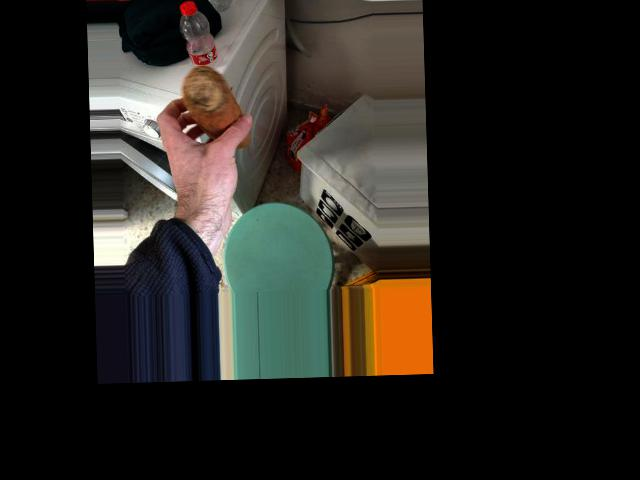sweet_potato: (179, 70, 255, 160)
